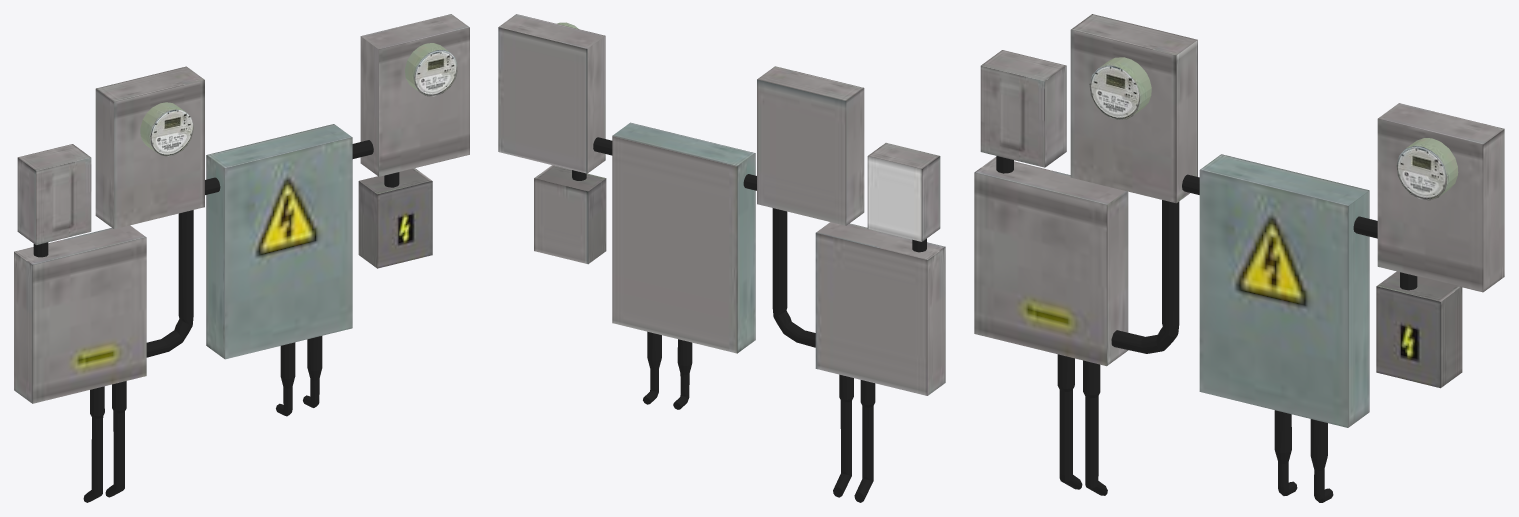
Rendered from meter_box.glb.
The picture shows the model from 3 angles, left to right: view 1: azimuth 30°, elevation 25°; view 2: azimuth 150°, elevation 25°; view 3: azimuth 330°, elevation 25°; orthographic projection. The views are drawn at different scales.
Parts seen in each view (by area): view 1: meter_box; view 2: meter_box; view 3: meter_box.
Part boxes in pixels (left/top/right/bottom): meter_box: left=14, top=14, right=469, bottom=502; meter_box: left=498, top=14, right=945, bottom=502; meter_box: left=974, top=14, right=1504, bottom=502.
Size of the model in its own units: 0.6155 by 0.5499 by 0.0702.
2 materials, 1 textured.
